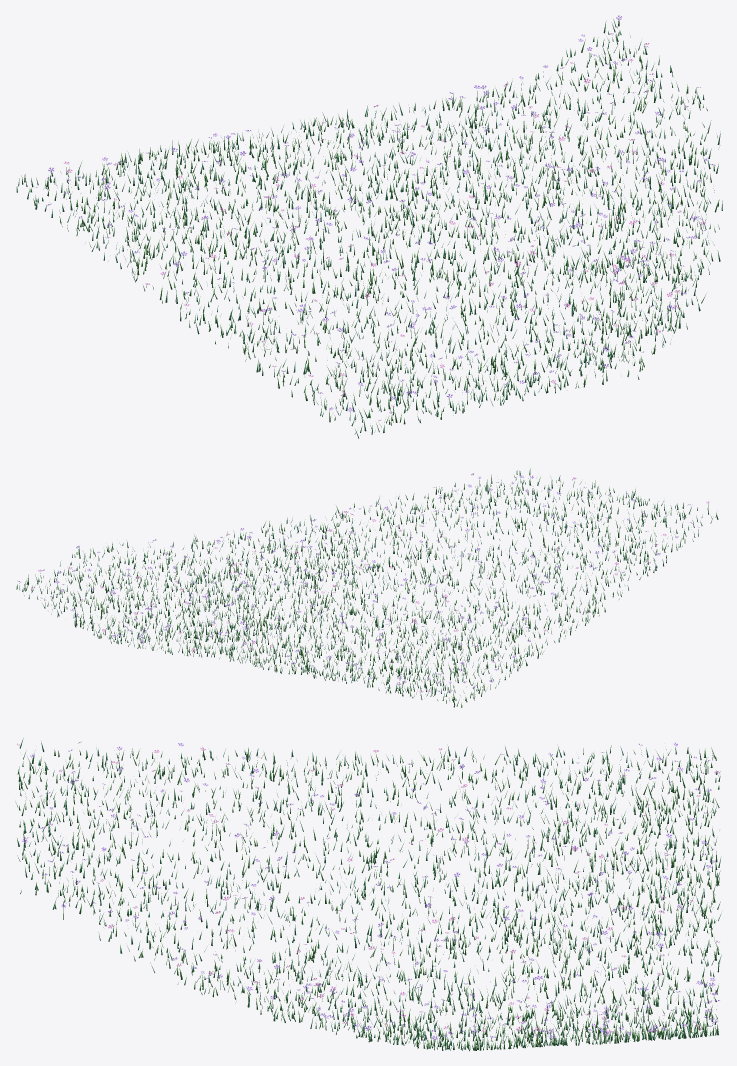
3 views of the same model, one above another, from view 1: azimuth 30°, elevation 25°; view 2: azimuth 150°, elevation 25°; view 3: azimuth 270°, elevation 25° (orthographic). The views are drawn at different scales.
Visible parts, largest first — view 1: gc_13; view 2: gc_13; view 3: gc_13.
Part boxes in pixels (x1,y1,x2,y2): gc_13: (16, 15, 722, 438); gc_13: (16, 468, 718, 707); gc_13: (15, 738, 721, 1051).
Bounding box in the file's own units: 18.18 × 1.95 × 18.2.
Materials: 1 (1 with a texture image).
